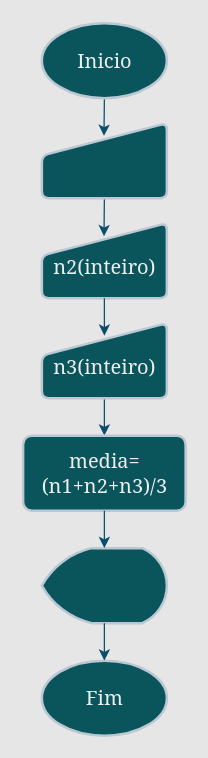
This 208x758 diagram has some shape labels left out. The shapes that lost their labels are listed below. From the top down, each one's centre as x and y in pixels, then its label:
(104,160): n1(inteiro)
(104,585): "A media é", media
